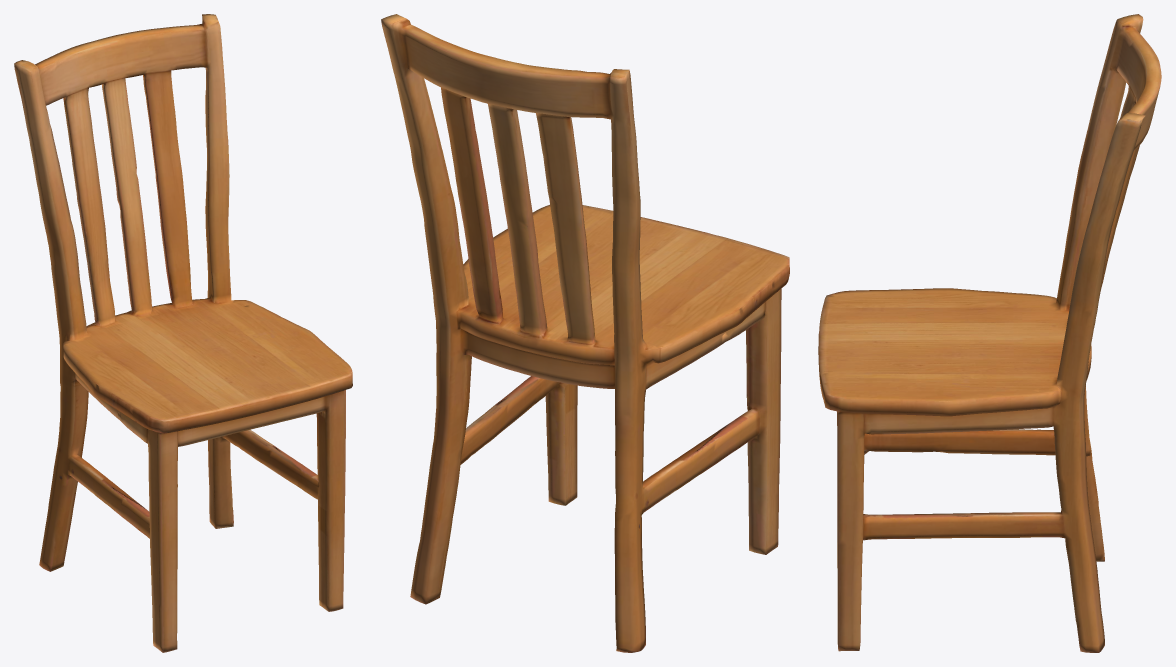
The model's file is chair.glb.
The picture shows the model from 3 angles, left to right: view 1: azimuth 30°, elevation 25°; view 2: azimuth 150°, elevation 25°; view 3: azimuth 270°, elevation 25°; orthographic projection. The views are drawn at different scales.
Visible parts, largest first — view 1: Mesh1; view 2: Mesh1; view 3: Mesh1.
Part boxes in pixels (x1=…): Mesh1: x1=14, y1=14, x2=352, y2=652; Mesh1: x1=381, y1=14, x2=789, y2=652; Mesh1: x1=818, y1=14, x2=1161, y2=652.
Size of the model in its own units: 0.9172 by 1.99 by 1.16.
1 material, 1 textured.
